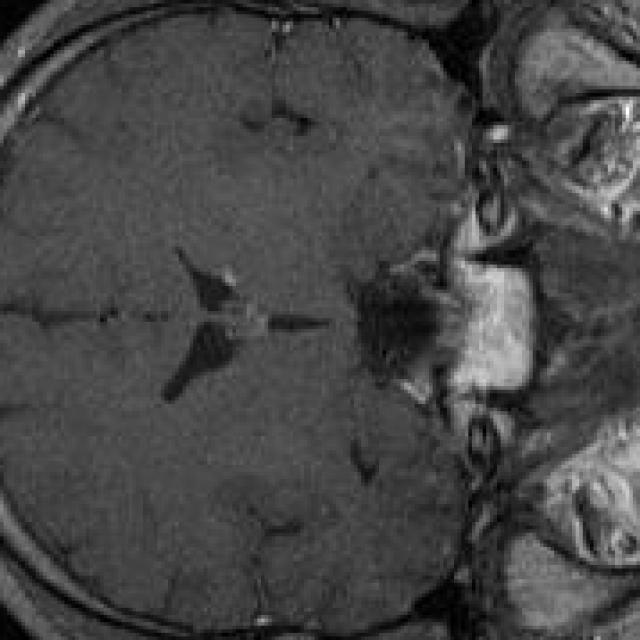pituitary: (451, 215, 529, 443)
